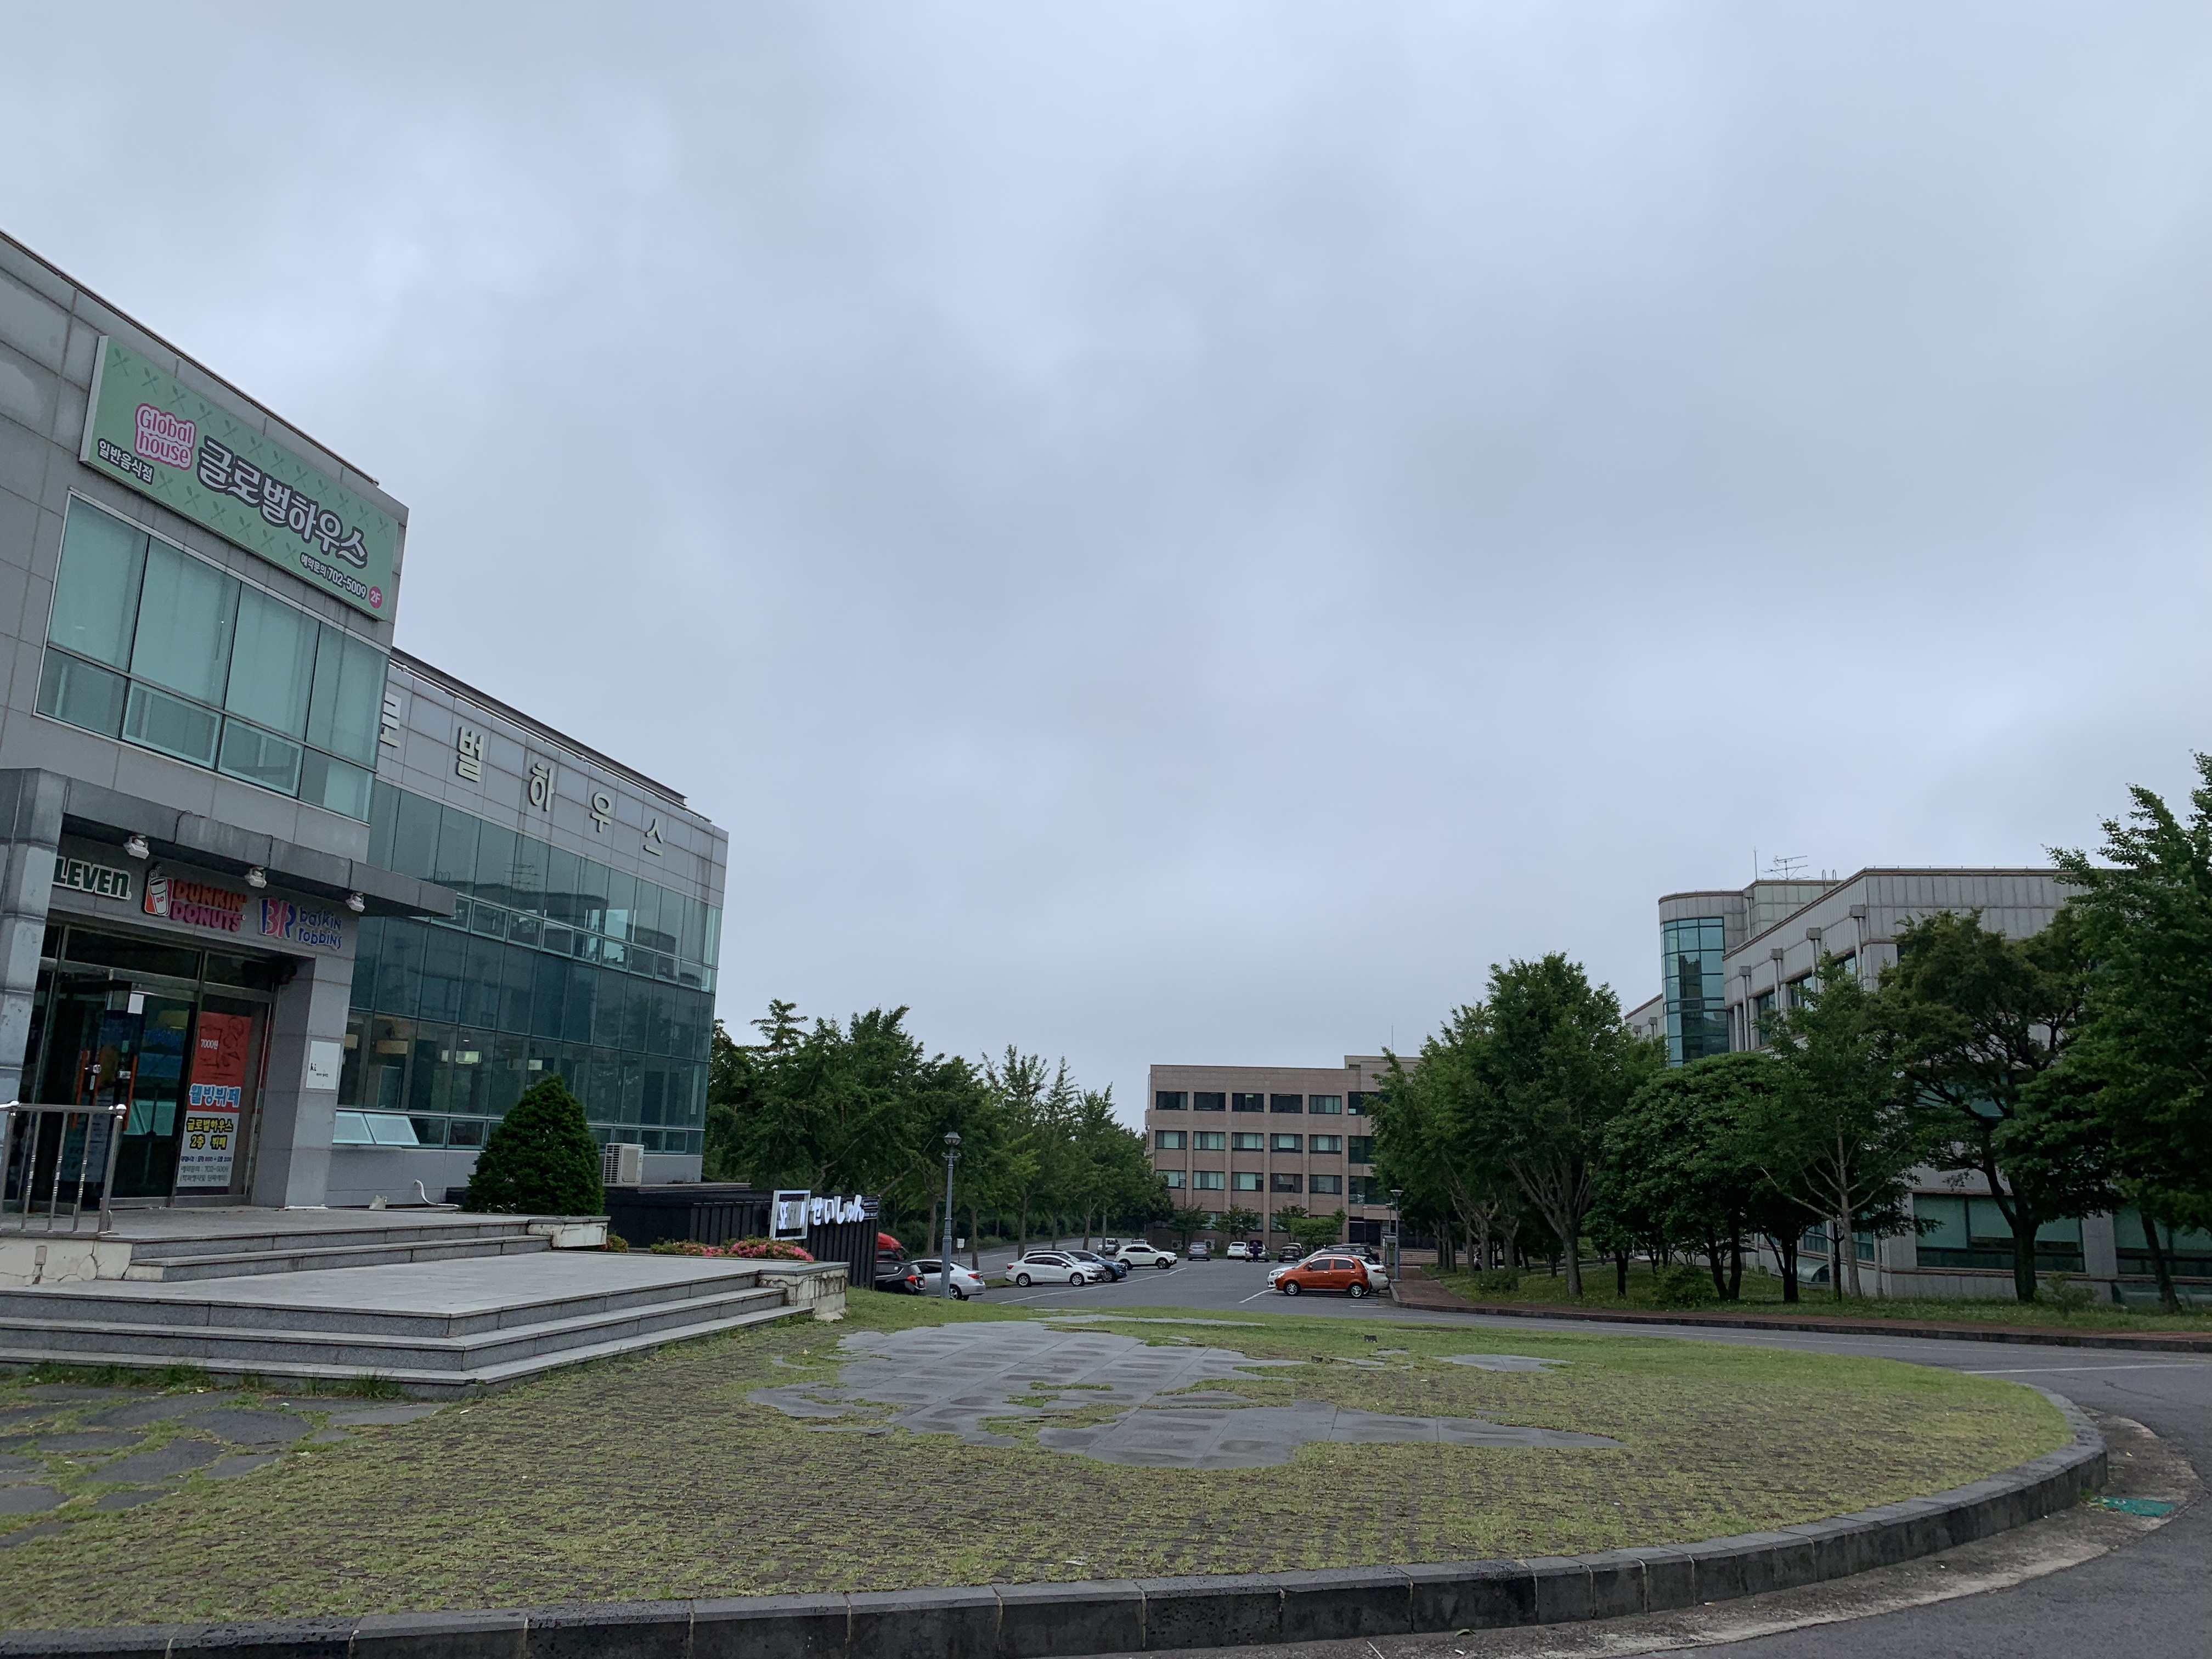Global House: (3, 234, 782, 1417)
Joint Experimental Labs: (1118, 1023, 1461, 1256)
Second Library: (1611, 821, 2094, 1063)
